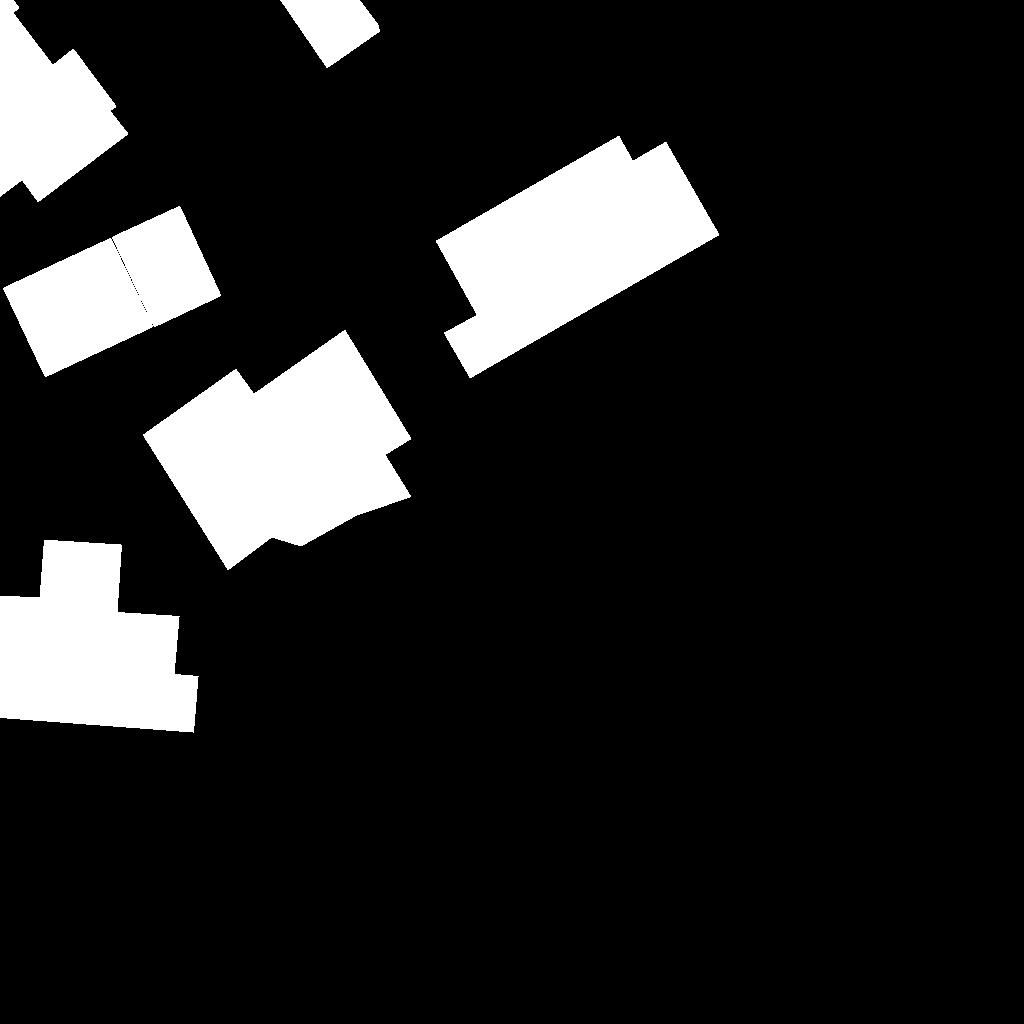building: (436, 136, 720, 379), (143, 330, 412, 571), (0, 540, 199, 733), (0, 0, 129, 203), (3, 238, 154, 378), (112, 206, 222, 328), (280, 0, 382, 69)
